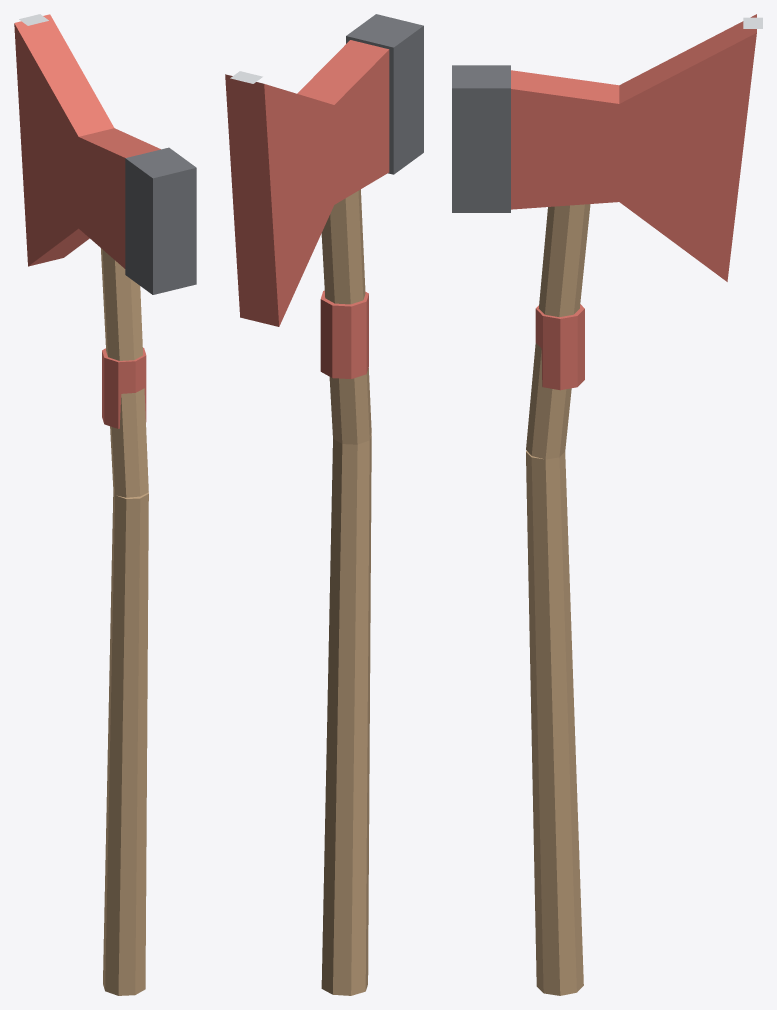
File: Axe_2.fbx
3 renders of one model, left to right at view 1: azimuth 30°, elevation 25°; view 2: azimuth 150°, elevation 25°; view 3: azimuth 270°, elevation 25°, orthographic. The views are drawn at different scales.
Visible parts, largest first — view 1: Axe_2_Mesh; view 2: Axe_2_Mesh; view 3: Axe_2_Mesh.
Part boxes in pixels (<box>): Axe_2_Mesh: <box>14,14,196,995</box>; Axe_2_Mesh: <box>225,14,423,995</box>; Axe_2_Mesh: <box>452,14,762,995</box>.
Size of the model in its own units: 0.055 by 1.08 by 0.316.
